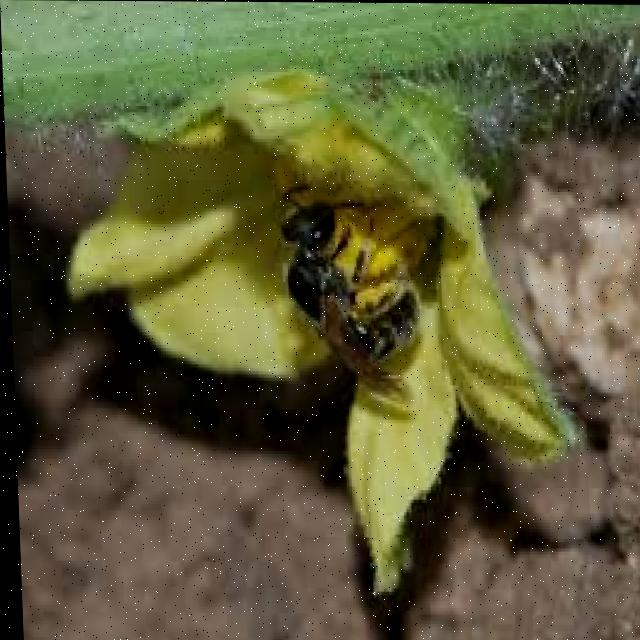Lasioglossum: (262, 174, 444, 408)
